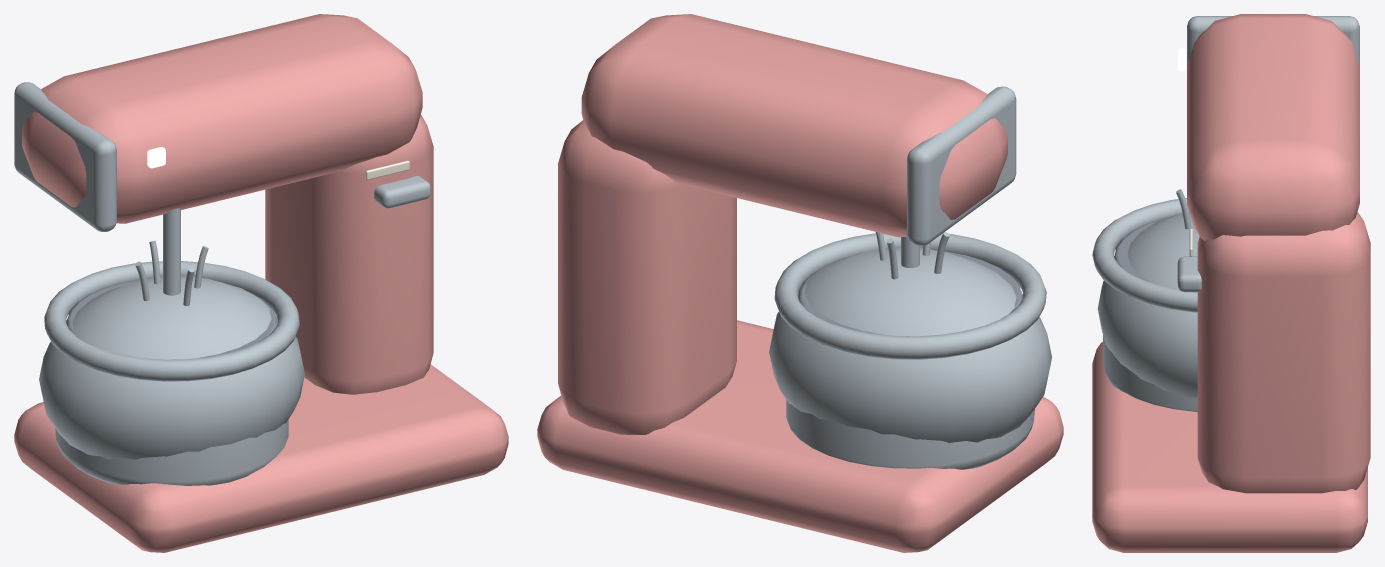
The model's file is kitchenMixerStand.glb.
3 views of the same model, side by side, from view 1: azimuth 30°, elevation 25°; view 2: azimuth 150°, elevation 25°; view 3: azimuth 270°, elevation 25° (orthographic). The views are drawn at different scales.
Visible parts, largest first — view 1: Mixer motor head, Mixer rounded base, Mixer upright motor stand, Mixing bowl, Mixing bowl rim, Mixing bowl base, Mixer silver nose band, Whisk spindle, Cabinet handle, Bowl opening, Whisk wire.001; view 2: Mixer motor head, Mixer upright motor stand, Mixer rounded base, Mixing bowl, Mixing bowl rim, Mixing bowl base, Mixer silver nose band, Bowl opening; view 3: Mixer upright motor stand, Mixer motor head, Mixer rounded base, Mixing bowl, Mixing bowl rim, Mixing bowl base, Mixer silver nose band, Cabinet handle, Bowl opening.
Part boxes in pixels (bbox=[...]): Mixer motor head: bbox=[22, 14, 422, 223]; Mixer rounded base: bbox=[14, 364, 508, 552]; Mixer upright motor stand: bbox=[265, 114, 433, 394]; Mixing bowl: bbox=[39, 276, 304, 459]; Mixing bowl rim: bbox=[44, 261, 299, 381]; Mixing bowl base: bbox=[55, 419, 288, 485]; Mixer silver nose band: bbox=[14, 82, 116, 231]; Whisk spindle: bbox=[163, 208, 180, 295]; Cabinet handle: bbox=[374, 176, 430, 208]; Bowl opening: bbox=[66, 279, 277, 358]; Whisk wire.001: bbox=[149, 240, 194, 306]; Mixer motor head: bbox=[581, 14, 1007, 237]; Mixer upright motor stand: bbox=[558, 120, 736, 434]; Mixer rounded base: bbox=[537, 320, 1063, 552]; Mixing bowl: bbox=[769, 247, 1051, 442]; Mixing bowl rim: bbox=[774, 233, 1046, 359]; Mixing bowl base: bbox=[786, 400, 1034, 469]; Mixer silver nose band: bbox=[907, 86, 1016, 246]; Bowl opening: bbox=[798, 251, 1022, 334]; Mixer upright motor stand: bbox=[1197, 212, 1370, 493]; Mixer motor head: bbox=[1187, 14, 1359, 240]; Mixer rounded base: bbox=[1092, 342, 1367, 552]; Mixing bowl: bbox=[1097, 212, 1199, 397]; Mixing bowl rim: bbox=[1092, 198, 1197, 312]; Mixing bowl base: bbox=[1103, 335, 1197, 411]; Mixer silver nose band: bbox=[1187, 16, 1359, 67]; Cabinet handle: bbox=[1177, 256, 1201, 292]; Bowl opening: bbox=[1114, 218, 1166, 282].
Bounding box in the file's own units: 0.835 × 0.79 × 0.515.
